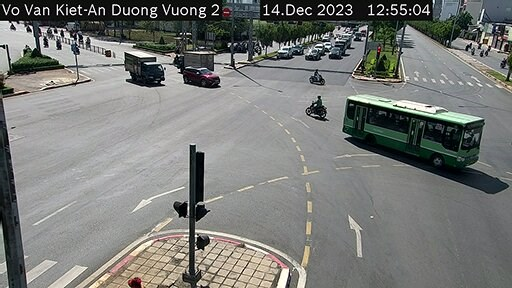bus: (344, 88, 481, 174)
car: (182, 67, 221, 92), (301, 47, 321, 64), (279, 43, 290, 62), (329, 48, 342, 57)
motorbike: (307, 95, 330, 119), (308, 69, 327, 85)
truck: (118, 48, 165, 87), (177, 48, 219, 65)
